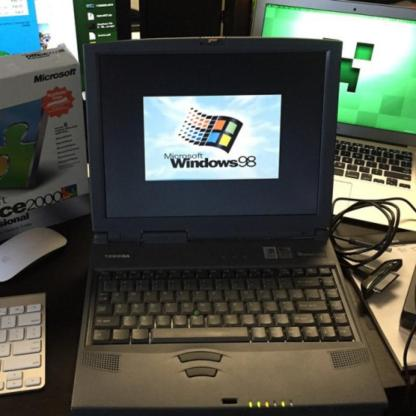board: (70, 36, 389, 416), (249, 0, 415, 232)
